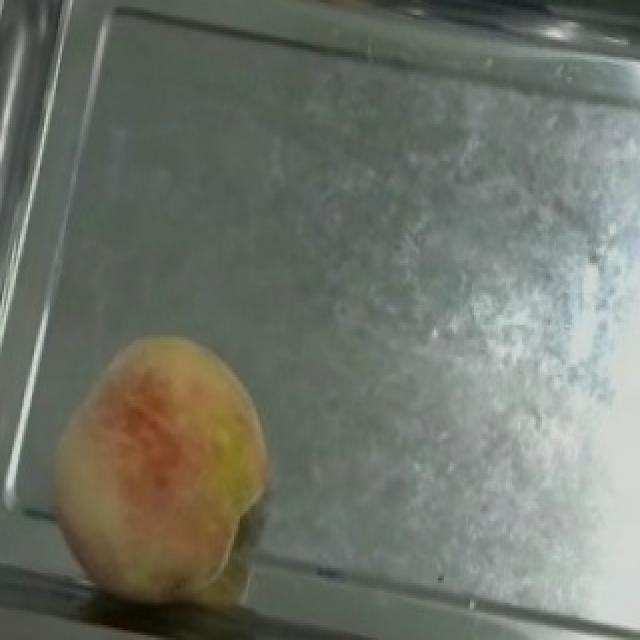Fruit: (22, 308, 298, 635)
